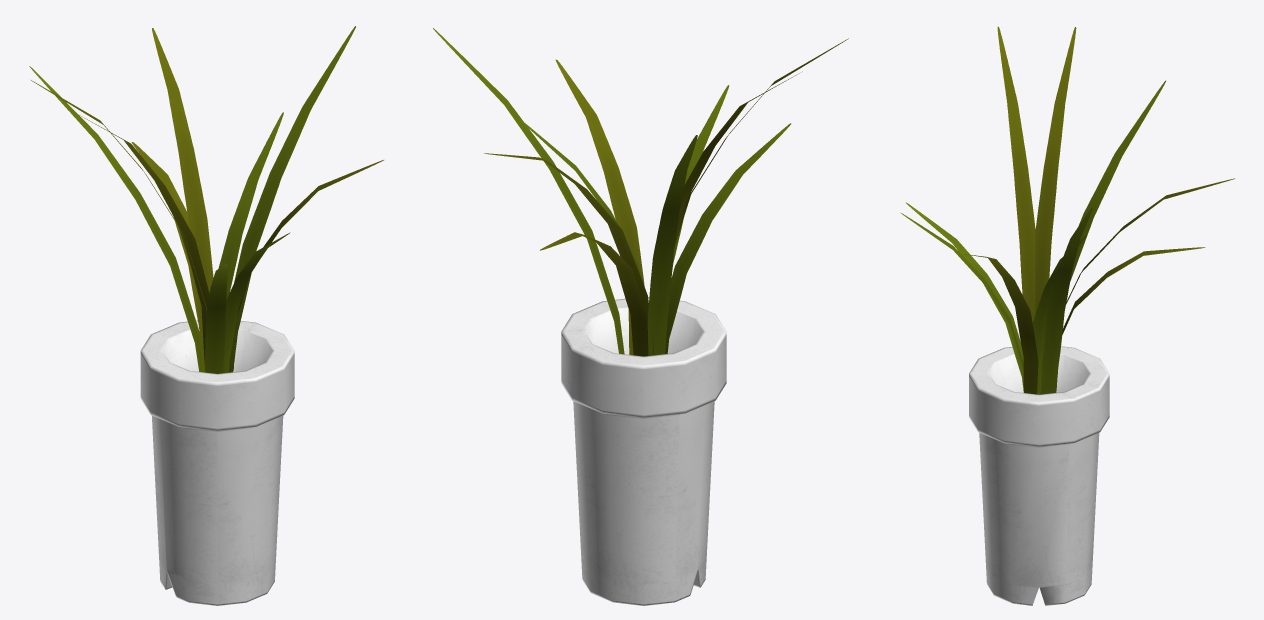
File: Plant_H.fbx
3 views of the same model, side by side, from view 1: azimuth 30°, elevation 25°; view 2: azimuth 150°, elevation 25°; view 3: azimuth 270°, elevation 25° (orthographic). The views are drawn at different scales.
Parts seen in each view (by area): view 1: U_Plant_H; view 2: U_Plant_H; view 3: U_Plant_H.
Part boxes in pixels (bbox=[...]): U_Plant_H: bbox=[29, 26, 383, 605]; U_Plant_H: bbox=[433, 28, 848, 605]; U_Plant_H: bbox=[901, 26, 1234, 605].
Bounding box in the file's own units: 97.86 × 140 × 92.14.
3 materials, 3 textured.
